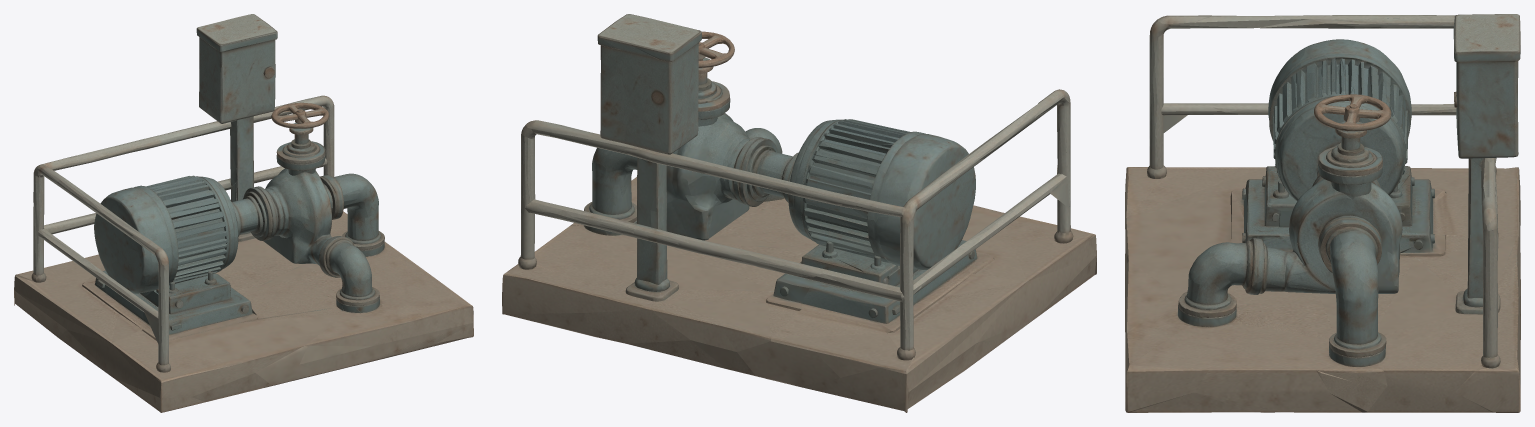
Rendered from intake.glb.
The picture shows the model from 3 angles, left to right: view 1: azimuth 30°, elevation 25°; view 2: azimuth 150°, elevation 25°; view 3: azimuth 270°, elevation 25°; orthographic projection. The views are drawn at different scales.
Size of the model in its own units: 1.9 by 1.36 by 1.55.
Materials: 1 (1 with a texture image).
